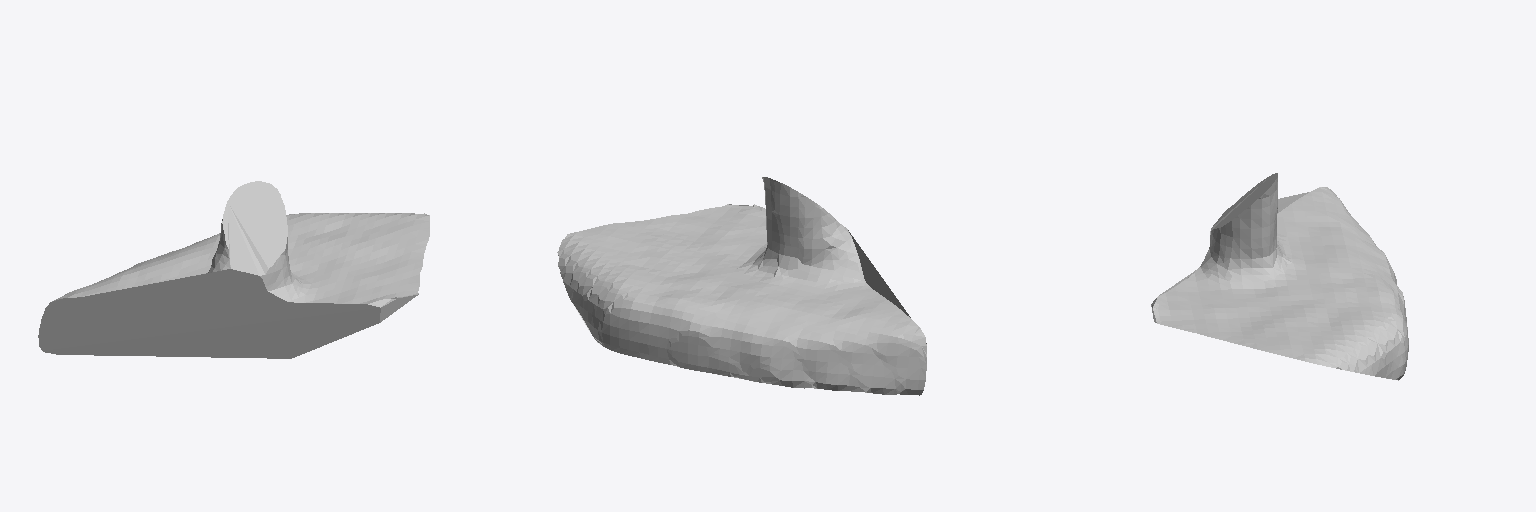
The model's file is low_cell_058.obj.
3 views of the same model, side by side, from view 1: azimuth 30°, elevation 25°; view 2: azimuth 150°, elevation 25°; view 3: azimuth 270°, elevation 25° (orthographic).
Visible parts, largest first — view 1: low_cell.058_low_cell.057; view 2: low_cell.058_low_cell.057; view 3: low_cell.058_low_cell.057.
Boxes of the visible parts, <box> form: low_cell.058_low_cell.057: <box>38,181,429,358</box>; low_cell.058_low_cell.057: <box>557,177,926,395</box>; low_cell.058_low_cell.057: <box>1151,173,1408,380</box>.
Bounding box in the file's own units: 0.7761 × 0.3021 × 0.4615.